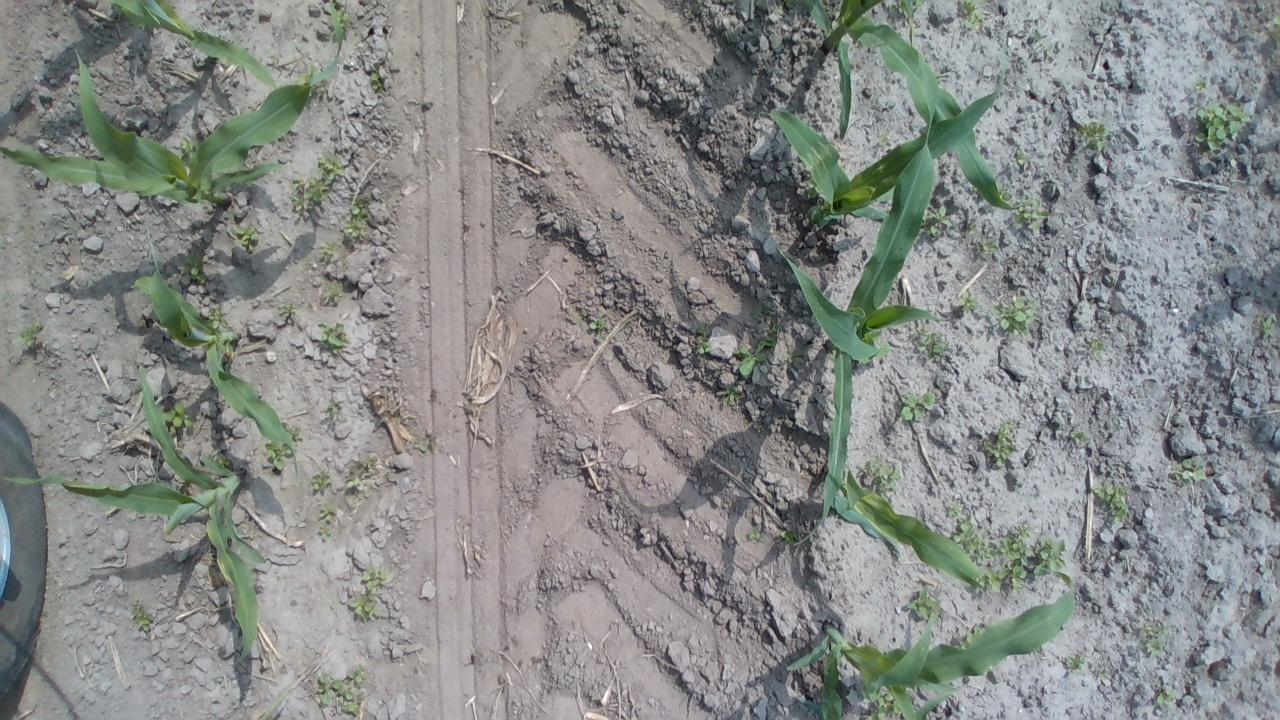Maize: (0, 366, 297, 676), (3, 30, 364, 212), (784, 0, 1022, 221), (769, 96, 952, 372), (810, 337, 994, 603), (754, 67, 1022, 235), (783, 586, 1092, 720), (126, 260, 314, 461), (113, 0, 282, 98)
Weeds: (992, 520, 1076, 596), (307, 668, 371, 716), (1192, 99, 1252, 150), (944, 502, 991, 563), (289, 176, 337, 221), (1168, 454, 1215, 498), (980, 418, 1021, 468), (312, 320, 356, 358), (1134, 616, 1167, 666), (342, 198, 376, 244), (1096, 481, 1130, 527), (901, 587, 948, 620), (994, 300, 1036, 336), (342, 456, 383, 492), (900, 391, 944, 424), (576, 306, 611, 346), (862, 687, 904, 720), (358, 558, 396, 592), (865, 460, 902, 494), (130, 598, 164, 634), (737, 340, 770, 377), (315, 152, 350, 186), (912, 330, 954, 358), (956, 622, 992, 654), (689, 323, 721, 356), (174, 256, 207, 288), (345, 594, 382, 622), (760, 322, 790, 354), (959, 2, 994, 28), (1080, 121, 1111, 150), (232, 226, 264, 254), (267, 441, 295, 473), (168, 406, 198, 435), (922, 206, 949, 238), (11, 323, 38, 355), (1020, 201, 1050, 229), (775, 528, 807, 554), (1034, 32, 1058, 65), (409, 432, 438, 458), (311, 466, 336, 496), (1083, 332, 1106, 364), (315, 506, 338, 538), (323, 281, 351, 307), (270, 300, 300, 324), (720, 378, 752, 400), (1062, 423, 1088, 449), (368, 68, 392, 96), (180, 134, 210, 156), (330, 7, 355, 32), (324, 400, 348, 426), (743, 526, 771, 548), (1258, 312, 1276, 346), (1060, 653, 1090, 673), (969, 226, 992, 252), (960, 294, 984, 317), (320, 240, 342, 264), (1156, 687, 1181, 708), (1265, 18, 1280, 50), (204, 310, 230, 328), (1014, 148, 1032, 168), (879, 128, 895, 146), (1094, 669, 1113, 683), (1194, 76, 1210, 92)
